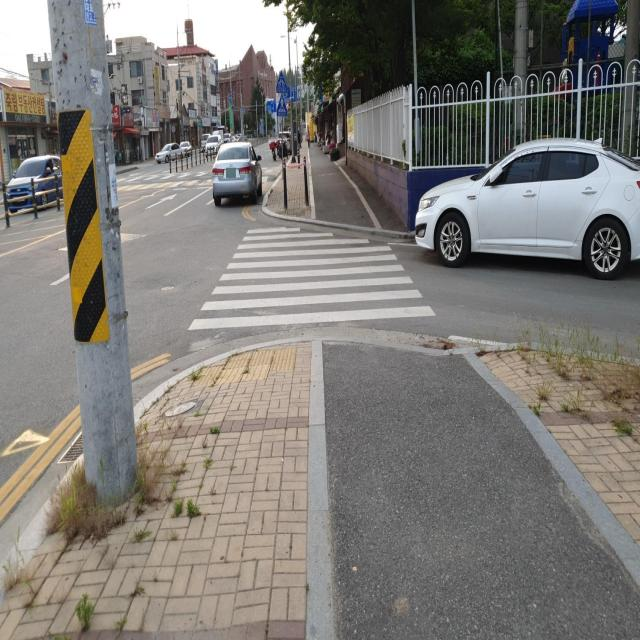횡단보도: (186, 224, 437, 334)
